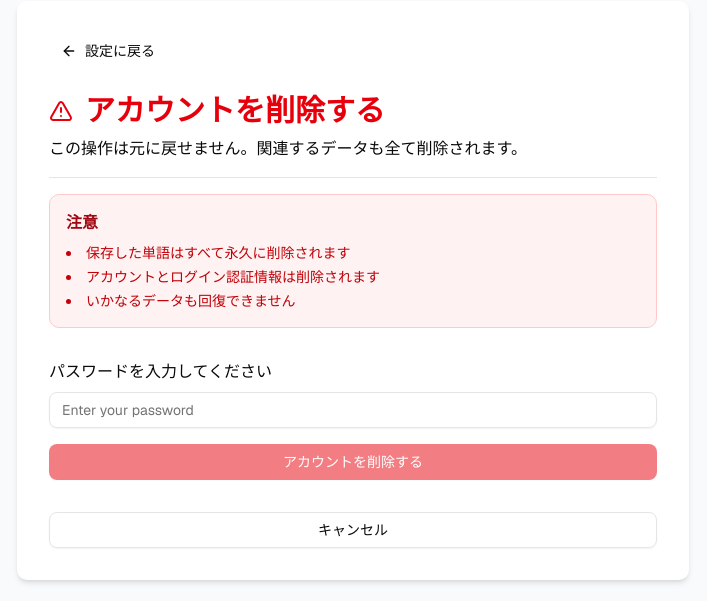
DeleteAccount › パスワードを入力すると削除ボタンが有効になる
Expected: the button "アカウントを削除する" is disabled, top-left (49, 444), bottom-right (657, 480)
Type "password123" into the password field with placeholder "Enter your password".
click(353, 410); type("password123")  # box top-left (49, 392), bottom-right (657, 428)
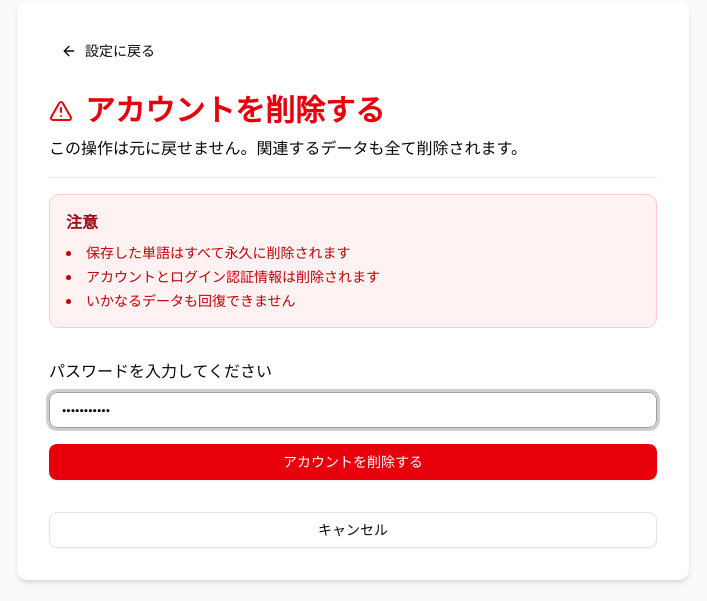
Expected: the button "アカウントを削除する" is enabled, top-left (49, 444), bottom-right (657, 480)
